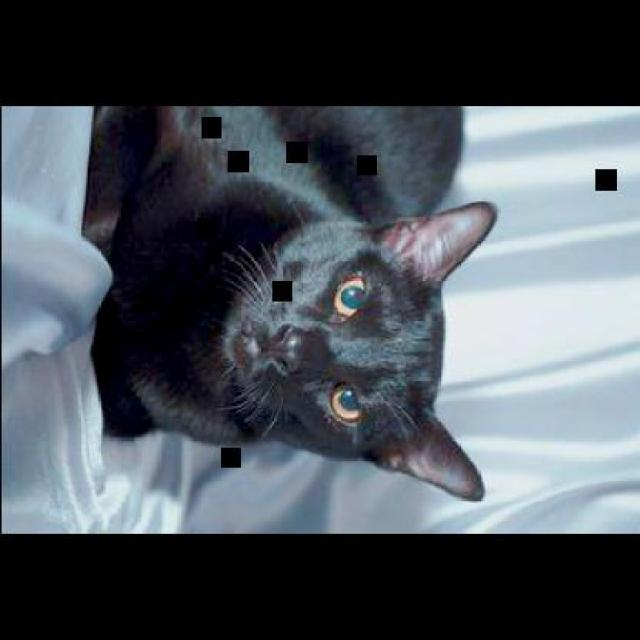unauthorized: (81, 103, 497, 502)
